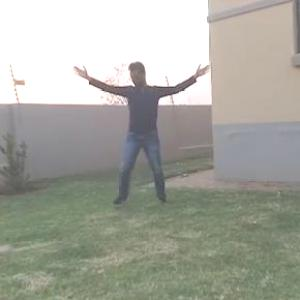takeoff: (77, 64, 210, 211)
